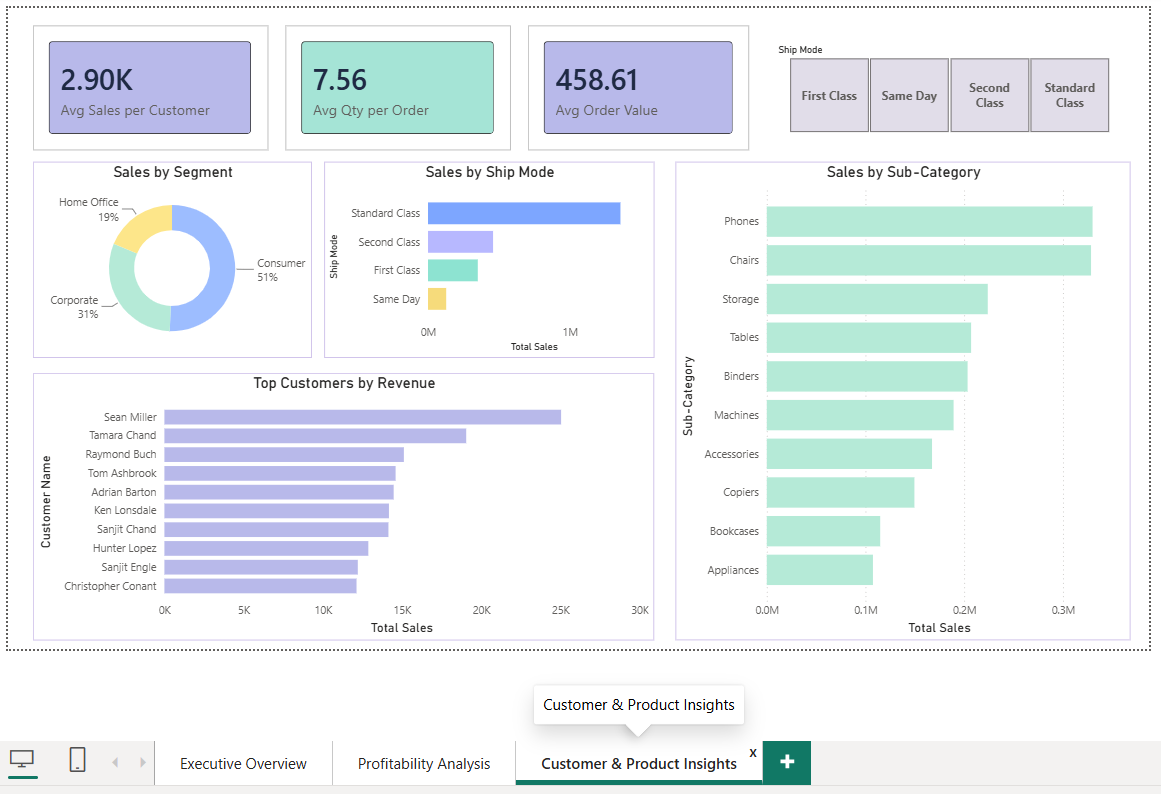

Layout of this report page (visuals, bound fields, positions):
{"tool":"powerbi","page":{"name":"Customer & Product Insights","canvas":[1280,720],"ordinal":2},"visuals":[{"type":"cardVisual","fields":{"Data":["Calculations.Avg Sales per Customer"]},"box":[28,19.6,263.6,140.2],"z":0},{"type":"cardVisual","fields":{"Data":["Calculations.Avg Order Value"]},"box":[583.3,19.6,248.2,140.2],"z":1000},{"type":"cardVisual","fields":{"Data":["Calculations.Avg Qty per Order"]},"box":[311.3,19.6,252.4,140.2],"z":2000},{"type":"clusteredBarChart","title":"Top Customers by Revenue","fields":{"Category":["Sample - Superstore.Customer Name"],"Y":["Calculations.Total Sales"]},"box":[28,409.5,696.9,300.1],"z":3000},{"type":"clusteredBarChart","title":" Sales by Sub-Category","fields":{"Category":["Sample - Superstore.Sub-Category"],"Y":["Calculations.Total Sales"]},"box":[748.8,172.5,510.4,537.1],"z":4000},{"type":"donutChart","title":"Sales by Segment","fields":{"Y":["Calculations.Total Sales"],"Category":["Sample - Superstore.Segment"]},"box":[28,172.5,312.7,220.2],"z":5000},{"type":"clusteredBarChart","title":"Sales by Ship Mode","fields":{"Category":["Sample - Superstore.Ship Mode"],"Y":["Calculations.Total Sales"]},"box":[354.8,172.5,370.2,220.2],"z":6000},{"type":"slicer","fields":{"Values":["Sample - Superstore.Ship Mode"]},"box":[851.2,35.1,408.1,110.8],"z":6001}]}

Visuals, with their boxes in screenshot pixels (x1, y1, x2, y2):
cardVisual - Calculations.Avg Sales per Customer: {"x1": 5, "y1": 6, "x2": 249, "y2": 136}
cardVisual - Calculations.Avg Order Value: {"x1": 520, "y1": 6, "x2": 750, "y2": 136}
cardVisual - Calculations.Avg Qty per Order: {"x1": 268, "y1": 6, "x2": 502, "y2": 136}
"Top Customers by Revenue" clusteredBarChart: {"x1": 5, "y1": 368, "x2": 651, "y2": 646}
" Sales by Sub-Category" clusteredBarChart: {"x1": 673, "y1": 148, "x2": 1147, "y2": 646}
"Sales by Segment" donutChart: {"x1": 5, "y1": 148, "x2": 295, "y2": 352}
"Sales by Ship Mode" clusteredBarChart: {"x1": 308, "y1": 148, "x2": 651, "y2": 352}
slicer - Sample - Superstore.Ship Mode: {"x1": 768, "y1": 20, "x2": 1147, "y2": 123}
